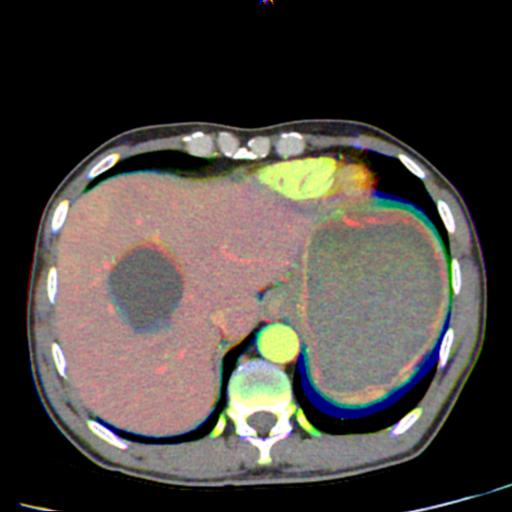Cyst: (109, 247, 183, 333)
